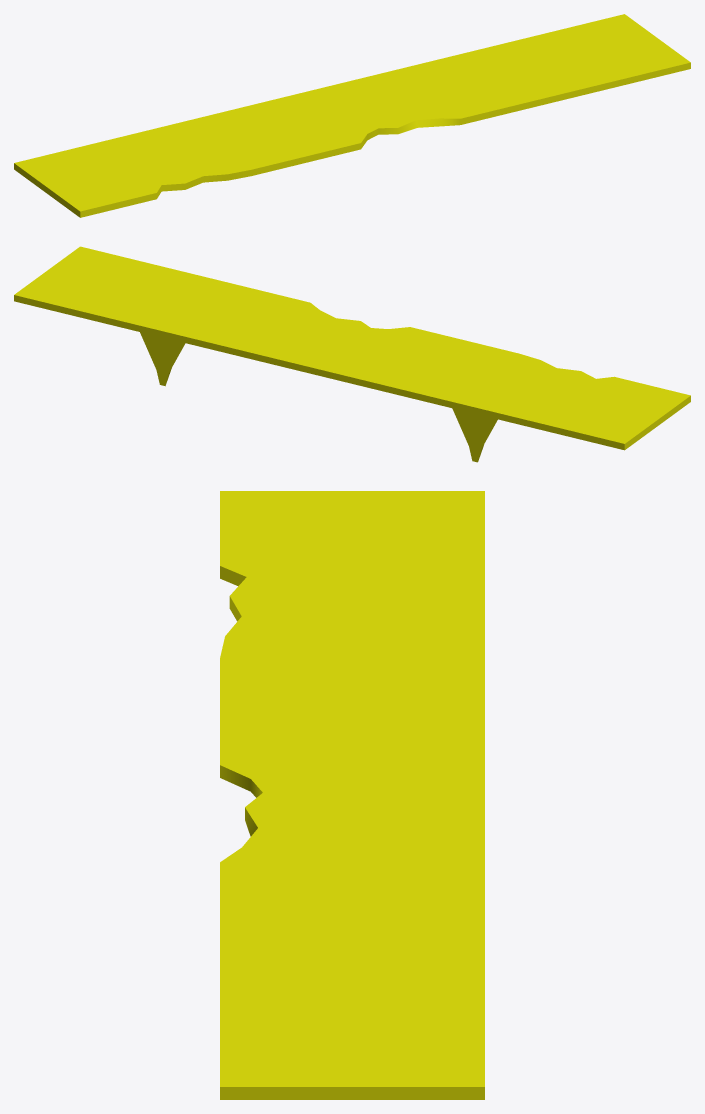
The model's file is PrateleiraLabA(Var1).fbx.
The picture shows the model from 3 angles, top to bottom: view 1: azimuth 30°, elevation 25°; view 2: azimuth 150°, elevation 25°; view 3: azimuth 270°, elevation 25°; orthographic projection. The views are drawn at different scales.
Parts seen in each view (by area): view 1: Prateleira1; view 2: Prateleira1; view 3: Prateleira1.
Boxes of the visible parts, box(x1,y1,x2,y2) form: Prateleira1: box(14, 14, 690, 217); Prateleira1: box(14, 246, 690, 462); Prateleira1: box(220, 491, 484, 1099).
Size of the model in its own units: 3.91 by 0.3336 by 0.734.
